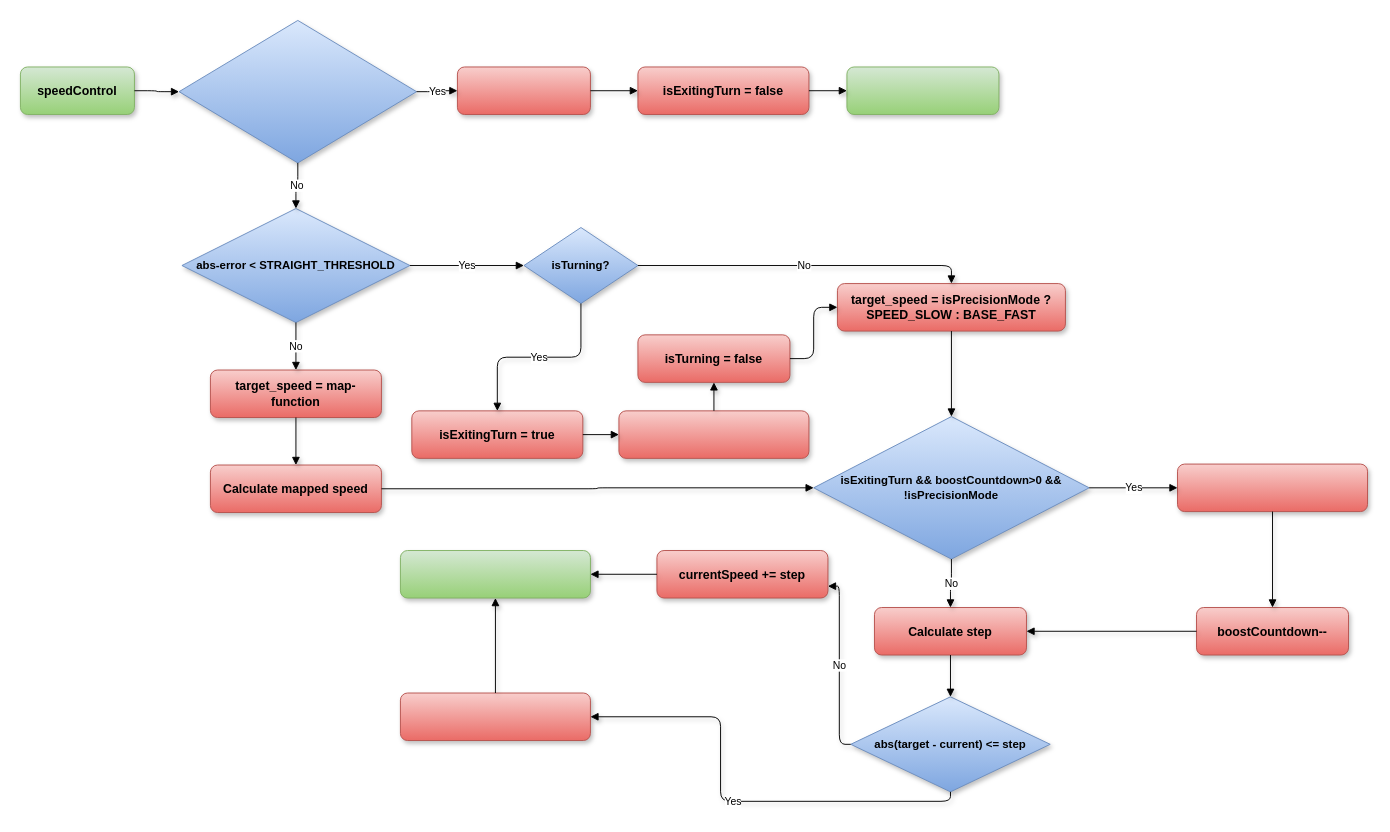
This 1390x832 diagram has some shape labels left out. Each missing label, with the centre of its shape:
abs-error > TURN_THRESHOLD: point 298,93
boostCountdown = BOOST_DURATION: point 714,435
currentSpeed = target_speed: point 496,717
isTurning = true: point 524,91
Return constrained speed: point 496,575
Return TURN_SPEED: point 923,91
target_speed = min(255, boost): point 1273,488
